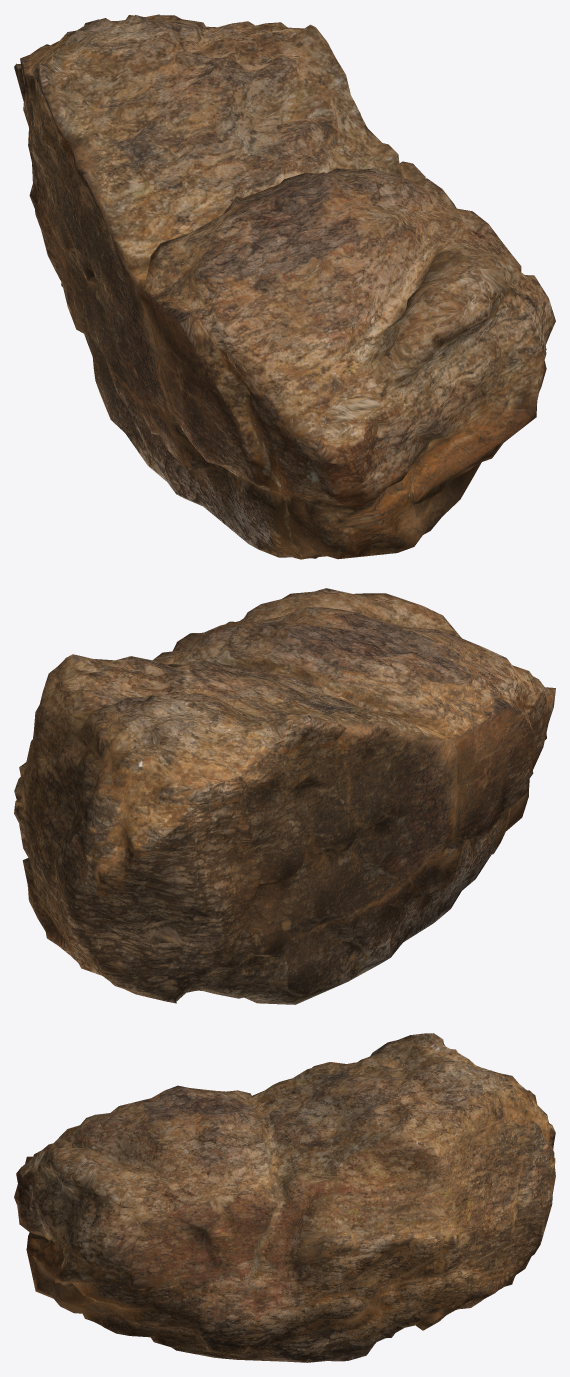
File: nama_boulder_06.glb
3 views of the same model, one above another, from view 1: azimuth 30°, elevation 25°; view 2: azimuth 150°, elevation 25°; view 3: azimuth 270°, elevation 25° (orthographic). The views are drawn at different scales.
Visible parts, largest first — view 1: nama_boulder_06; view 2: nama_boulder_06; view 3: nama_boulder_06.
Part boxes in pixels (x1,y1,x2,y2): nama_boulder_06: [14, 14, 555, 559]; nama_boulder_06: [14, 588, 555, 1004]; nama_boulder_06: [14, 1033, 555, 1362].
Size of the model in its own units: 1.09 by 1.05 by 1.96.
1 material, 1 textured.
